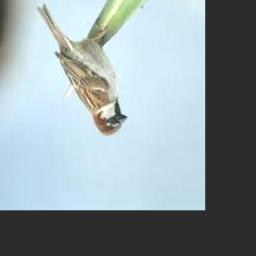Sparrow: (37, 5, 127, 137)
